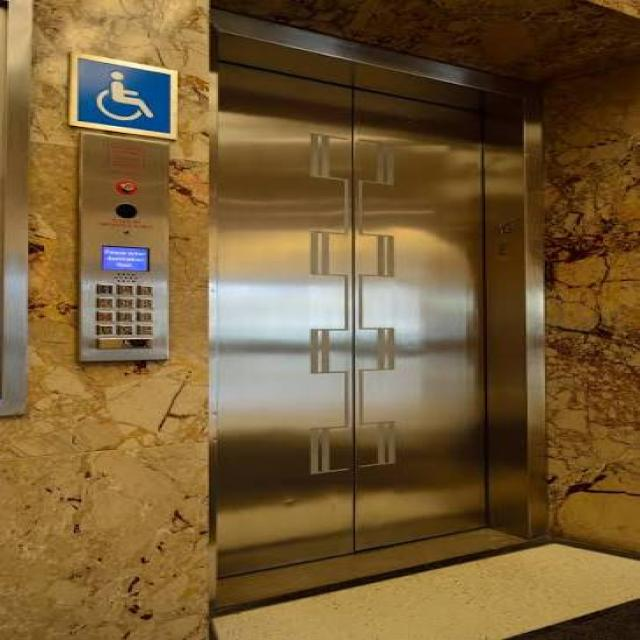elevator: (59, 4, 574, 610)
